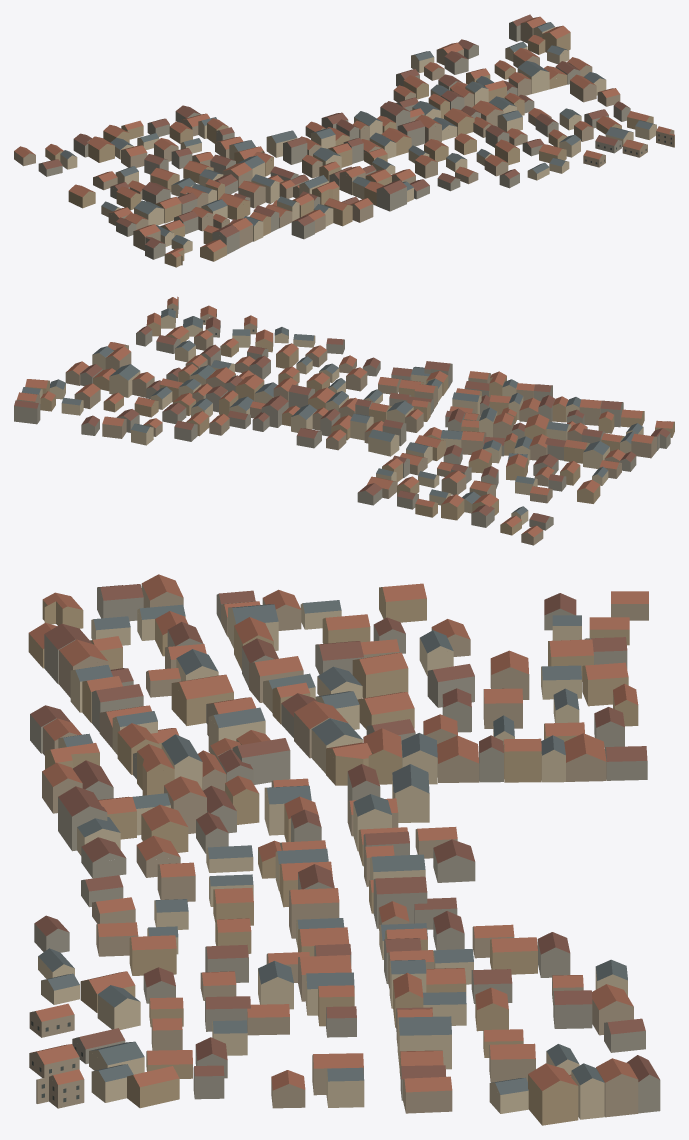
3 renders of one model, top to bottom at view 1: azimuth 30°, elevation 25°; view 2: azimuth 150°, elevation 25°; view 3: azimuth 270°, elevation 25°, orthographic. The views are drawn at different scales.
Visible parts, largest first — view 1: C_-3_-1; view 2: C_-3_-1; view 3: C_-3_-1.
Part boxes in pixels (left/top/right/bottom): C_-3_-1: left=14, top=14, right=674, bottom=267; C_-3_-1: left=14, top=296, right=674, bottom=545; C_-3_-1: left=28, top=574, right=660, bottom=1125.
Size of the model in its own units: 369 by 14.52 by 190.
